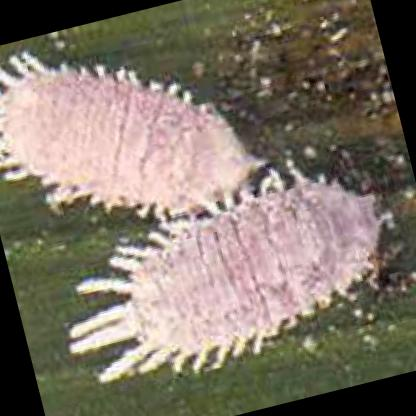mealy bug: (66, 178, 386, 382), (0, 65, 251, 215)
